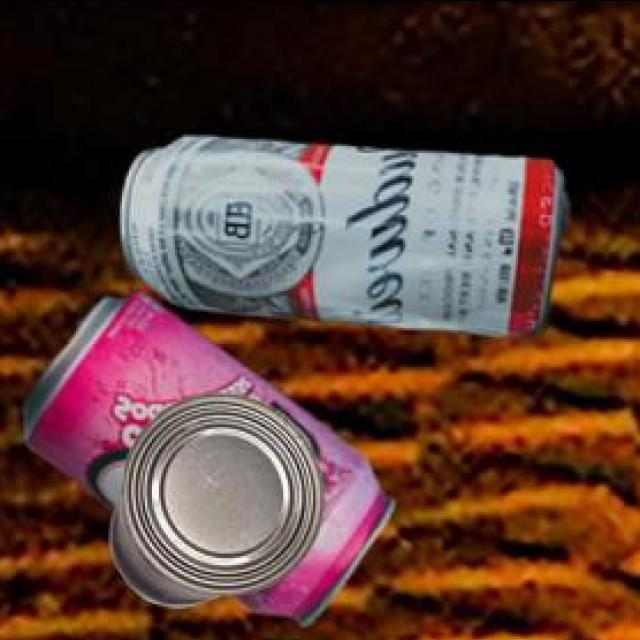logam: (26, 294, 397, 627), (125, 139, 572, 342), (114, 397, 328, 609)
